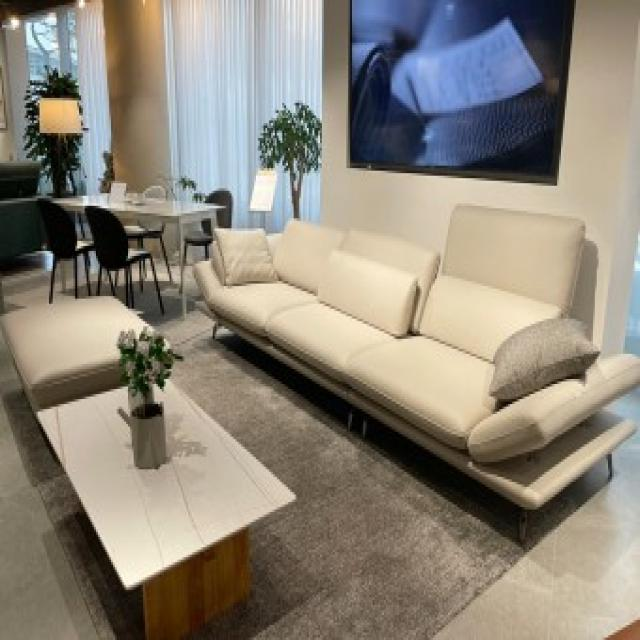Chair: (81, 201, 173, 312), (27, 192, 87, 290), (177, 188, 230, 278)
Sofa: (197, 178, 622, 494)
Table: (31, 370, 302, 638)
